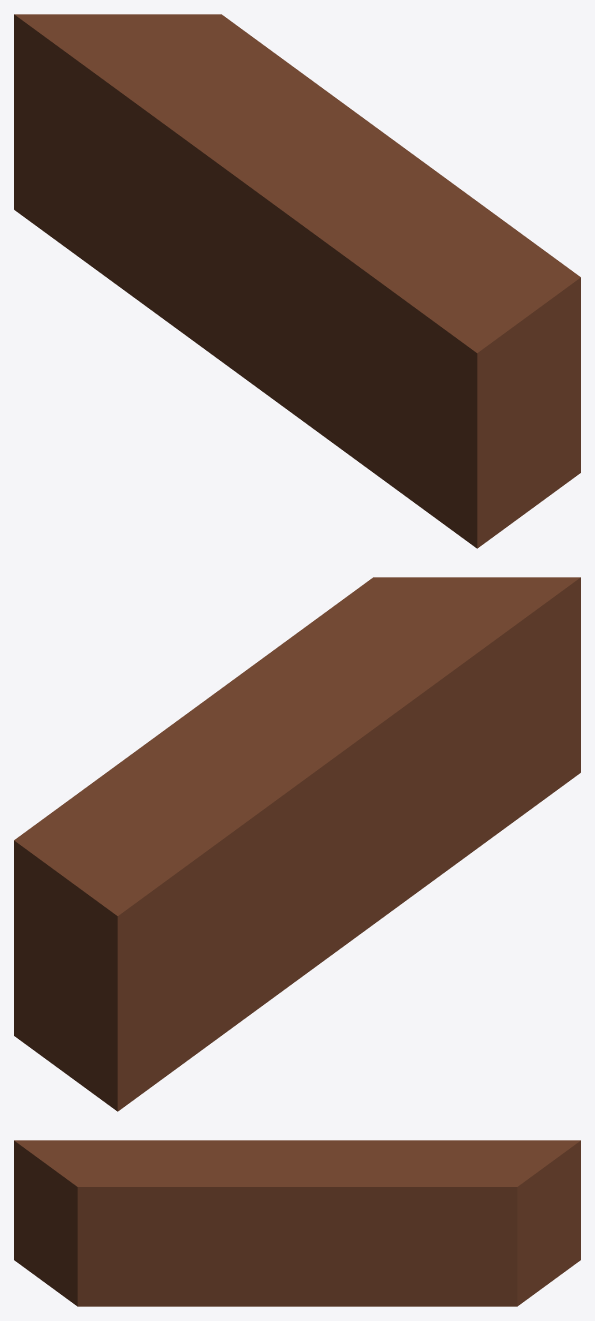
The model's file is wooden_wall6.glb.
3 renders of one model, top to bottom at view 1: azimuth 30°, elevation 25°; view 2: azimuth 150°, elevation 25°; view 3: azimuth 270°, elevation 25°, orthographic. The views are drawn at different scales.
Parts seen in each view (by area): view 1: WoodenWall6; view 2: WoodenWall6; view 3: WoodenWall6.
Boxes of the visible parts, x1,y1,x2,y2 form: WoodenWall6: (14,14,580,548); WoodenWall6: (14,577,580,1111); WoodenWall6: (14,1140,580,1306).
Size of the model in its own units: 0.25 by 0.3 by 1.29.
1 material, 1 textured.
